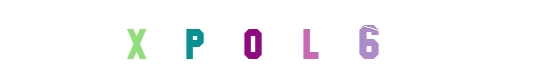6: (301, 0, 381, 80)
L: (233, 0, 313, 80)
O: (213, 0, 293, 80)
P: (153, 0, 233, 80)
X: (101, 0, 181, 80)
